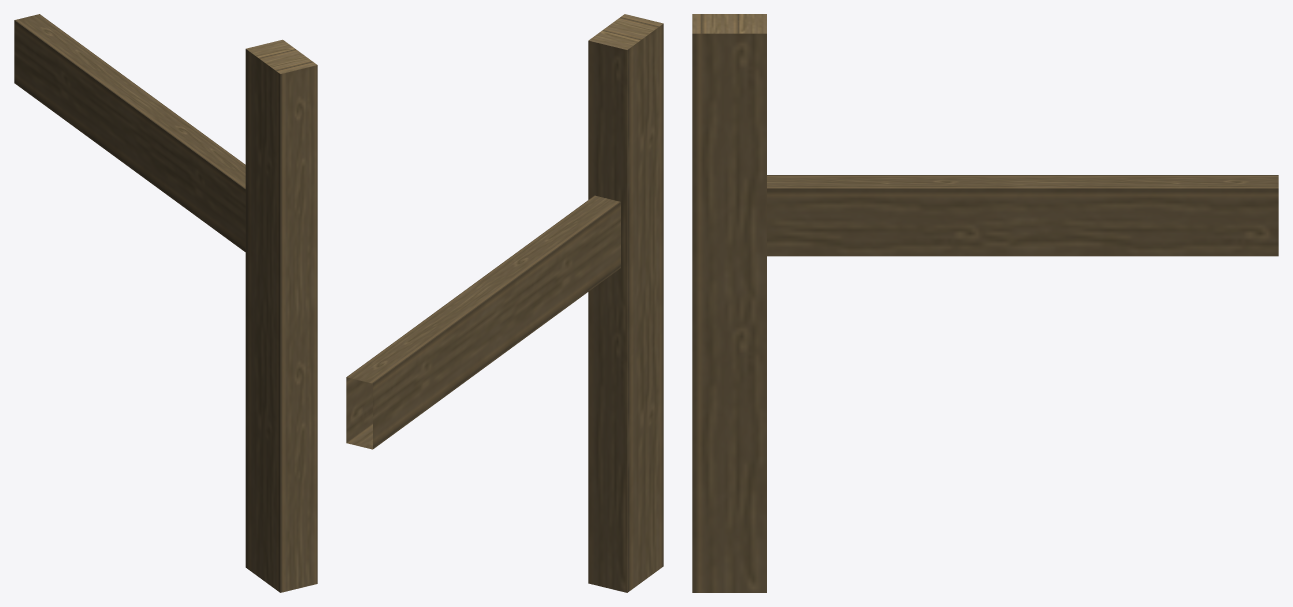
File: Prop_e.fbx
3 renders of one model, left to right at view 1: azimuth 30°, elevation 25°; view 2: azimuth 150°, elevation 25°; view 3: azimuth 270°, elevation 25°, orthographic. The views are drawn at different scales.
Visible parts, largest first — view 1: Props_e; view 2: Props_e; view 3: Props_e.
Part boxes in pixels (x1=…): Props_e: x1=14, y1=14, x2=317, y2=592; Props_e: x1=346, y1=14, x2=663, y2=592; Props_e: x1=692, y1=14, x2=1278, y2=592.
Size of the model in its own units: 9.05 by 121 by 115.
